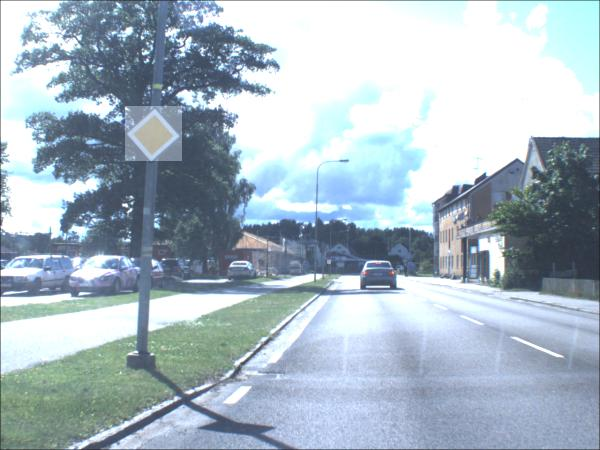NO_STOPPING_NO_STANDING: (325, 253, 333, 262)
PEDESTRIAN_CROSSING: (332, 259, 336, 263)
PRIORITY_ROAD: (125, 107, 183, 163), (327, 261, 332, 266)
